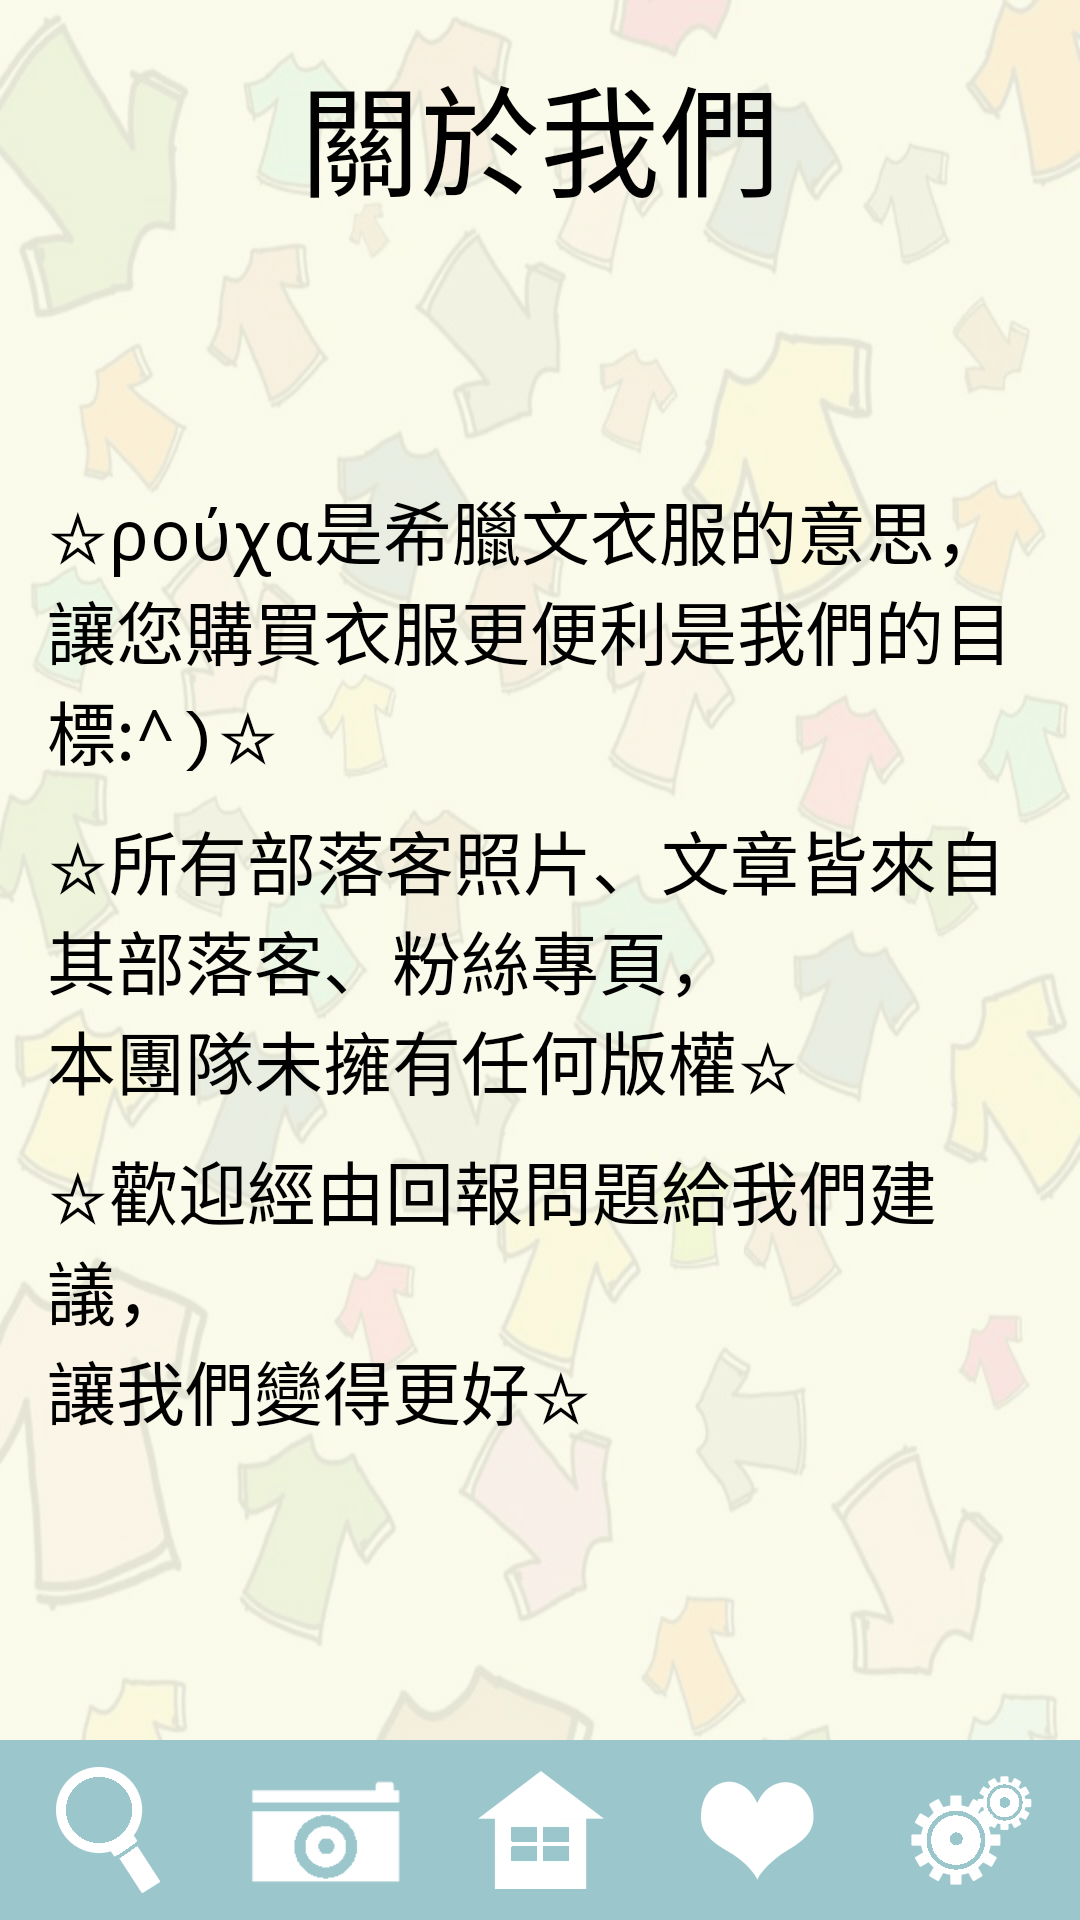

Named icons in this screenshot (1080px×1920px) and their centers, (x=x, y=y):
home: (x=541, y=1830)
like: (x=757, y=1830)
search: (x=108, y=1830)
setting: (x=971, y=1830)
